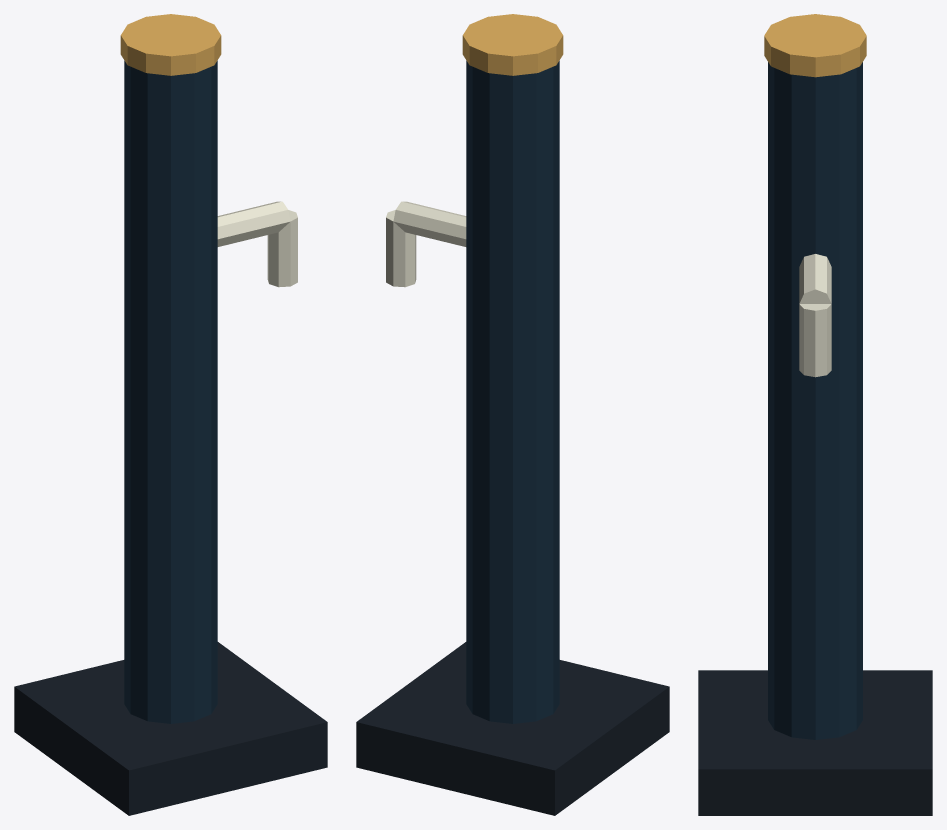
File: net-post.glb
3 views of the same model, side by side, from view 1: azimuth 30°, elevation 25°; view 2: azimuth 150°, elevation 25°; view 3: azimuth 270°, elevation 25° (orthographic). The views are drawn at different scales.
Parts seen in each view (by area): view 1: net-post; view 2: net-post; view 3: net-post.
Boxes of the visible parts, x1,y1,x2,y2 form: net-post: (14,14,327,815); net-post: (356,14,669,815); net-post: (698,14,932,815).
Size of the model in its own units: 0.362 by 1.1 by 0.32.
